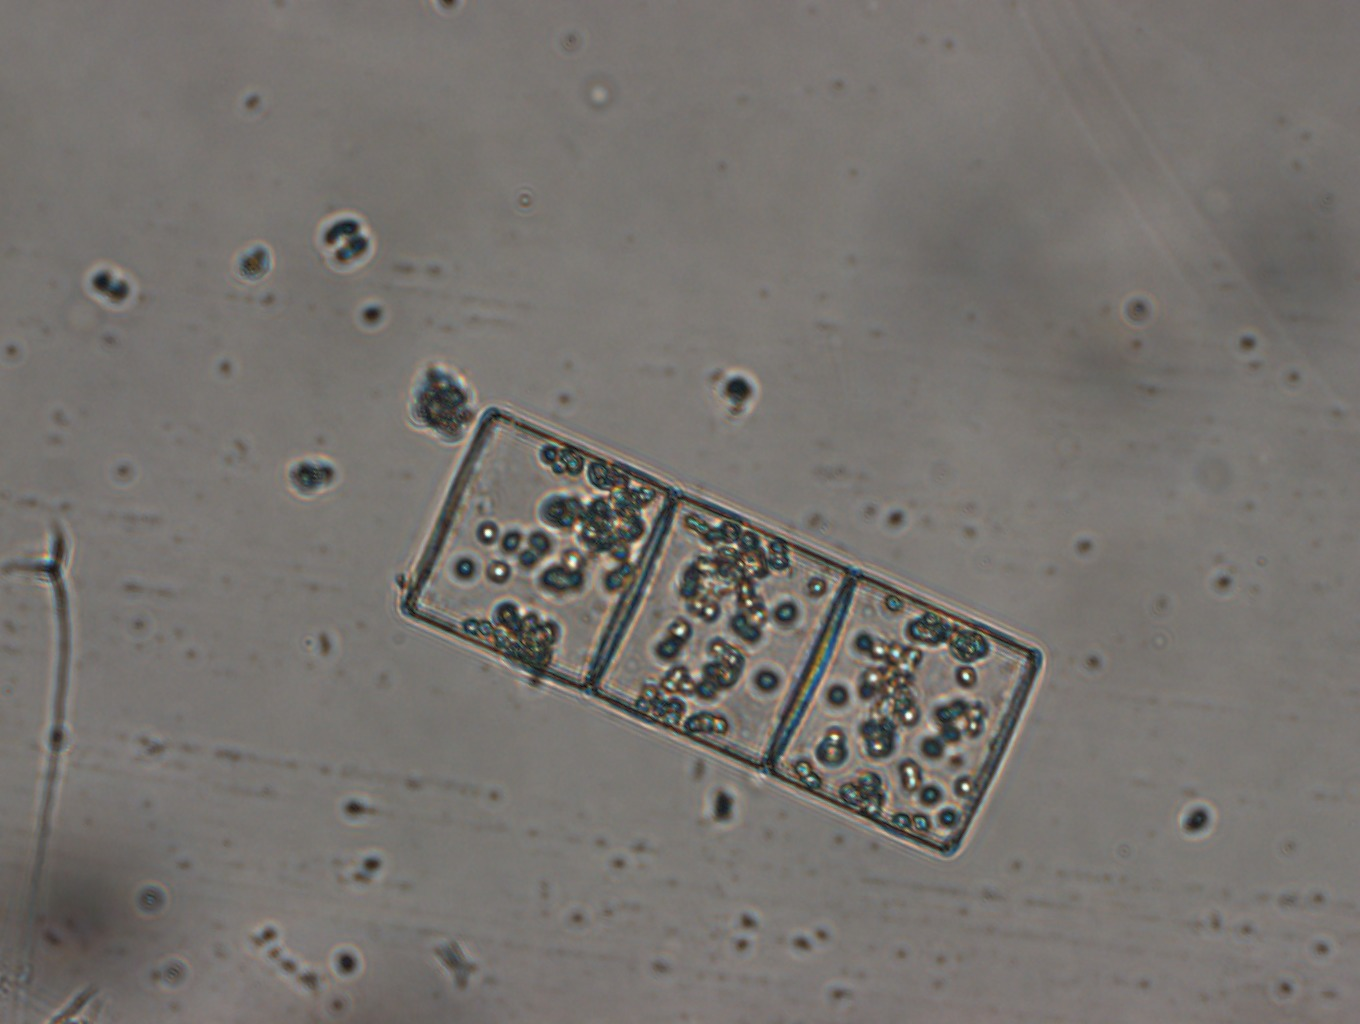guinardia flaccida: (397, 402, 1046, 867)
